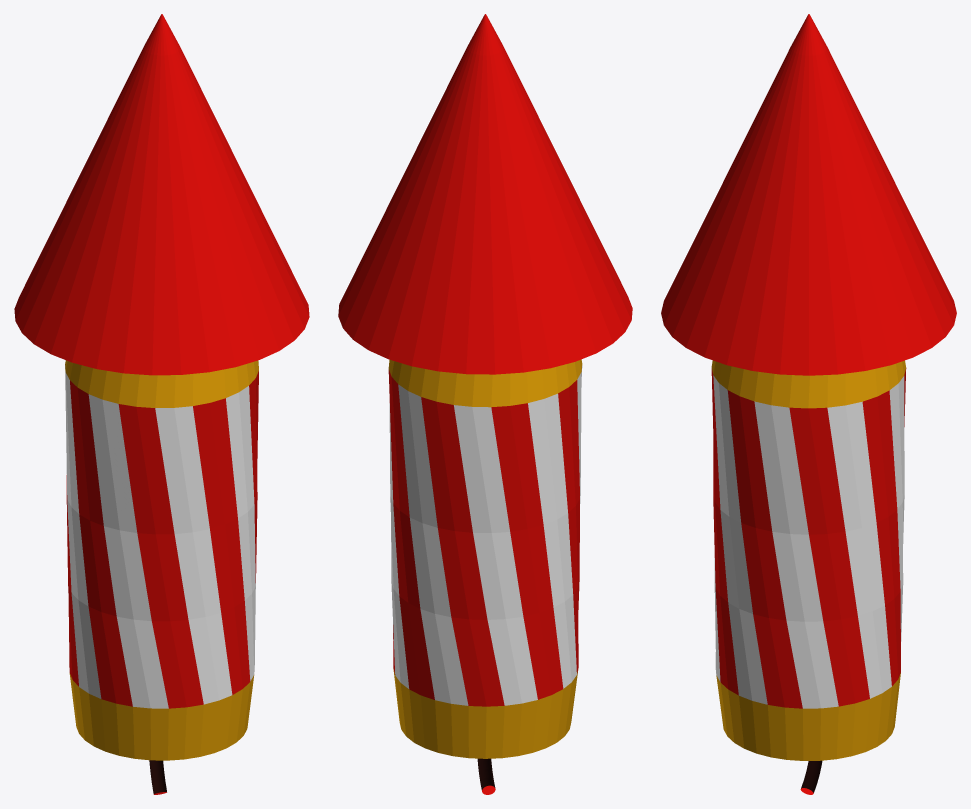
The model's file is fireworks.fbx.
3 renders of one model, left to right at view 1: azimuth 30°, elevation 25°; view 2: azimuth 150°, elevation 25°; view 3: azimuth 270°, elevation 25°, orthographic.
Visible parts, largest first — view 1: rocket; view 2: rocket; view 3: rocket.
Part boxes in pixels (x1,y1,x2,y2): rocket: [14, 14, 309, 794]; rocket: [338, 14, 632, 794]; rocket: [661, 14, 956, 794].
Bounding box in the file's own units: 29.7 × 86.42 × 29.7.
